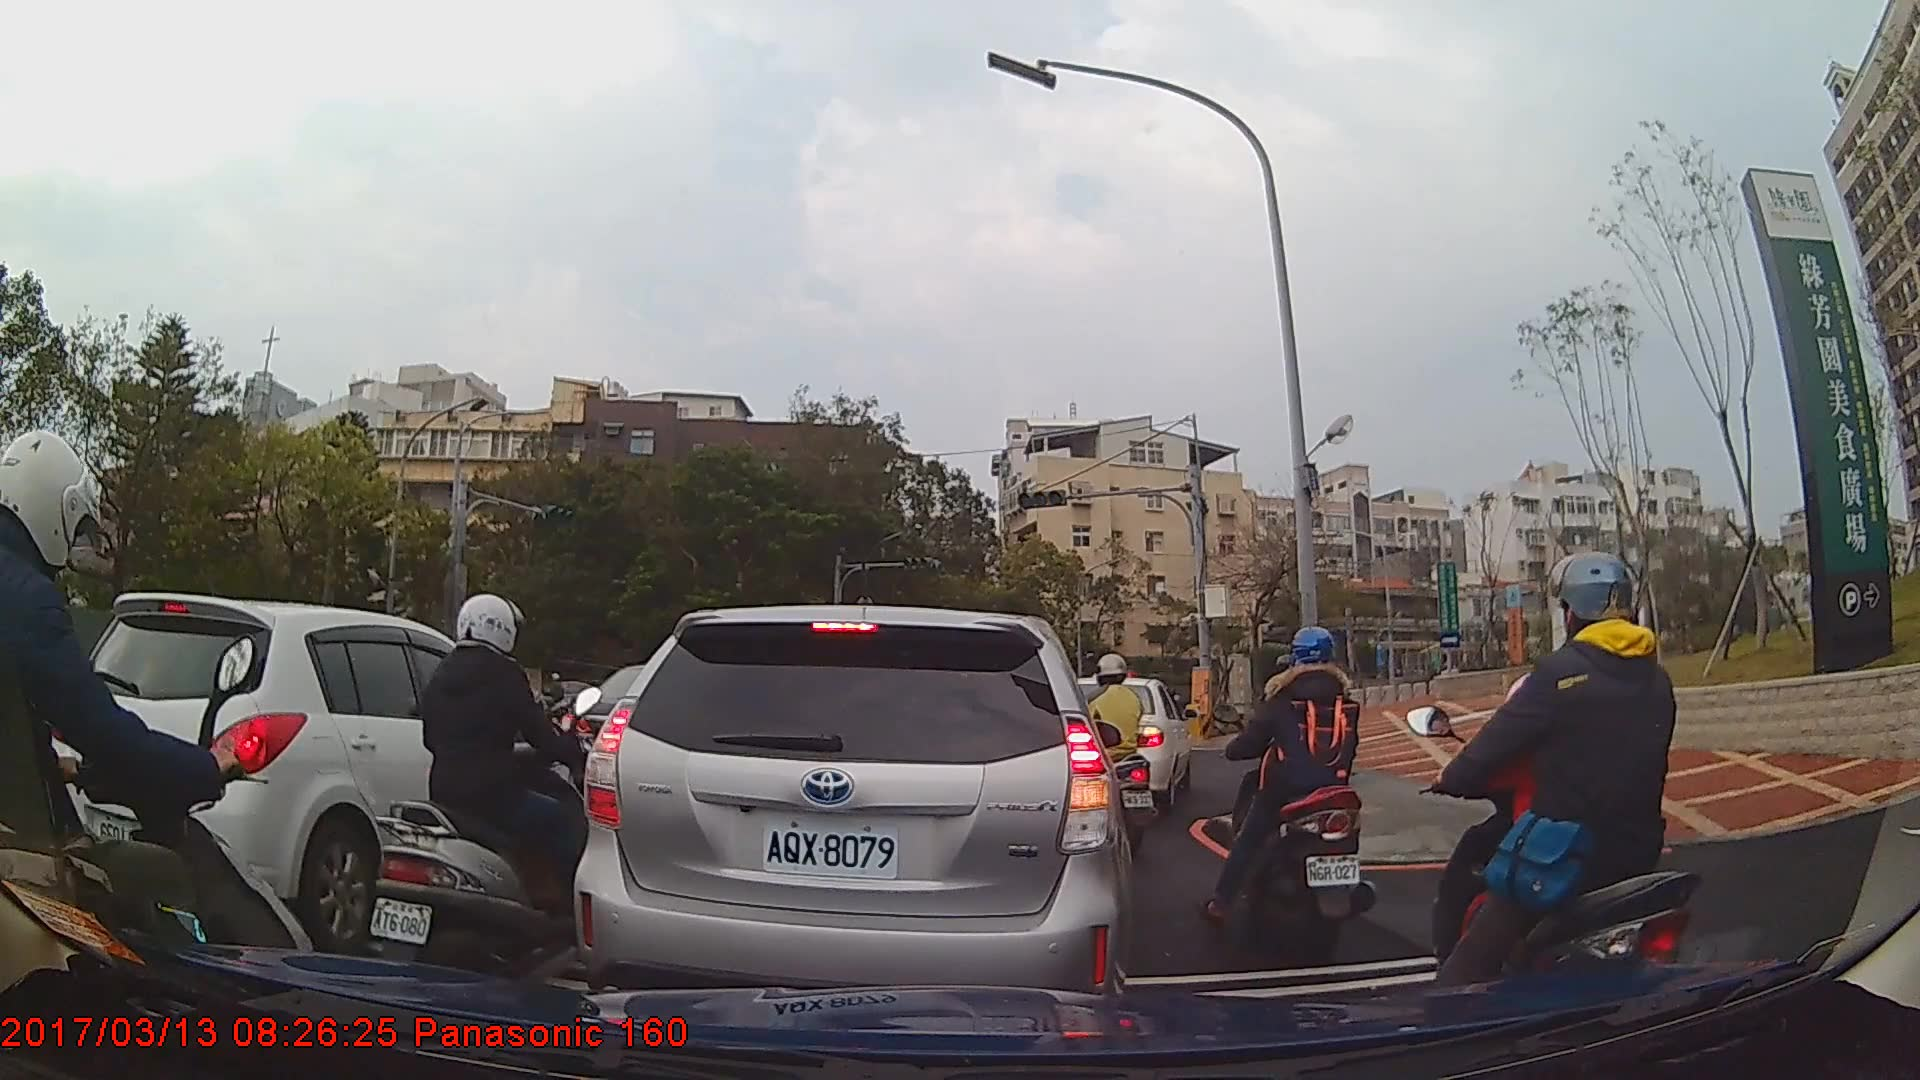rider: (1, 429, 327, 1076), (1413, 553, 1708, 1045), (367, 593, 620, 987), (1194, 620, 1390, 962), (1062, 651, 1157, 851)
vehicle: (568, 601, 1139, 1033), (41, 591, 572, 932)
